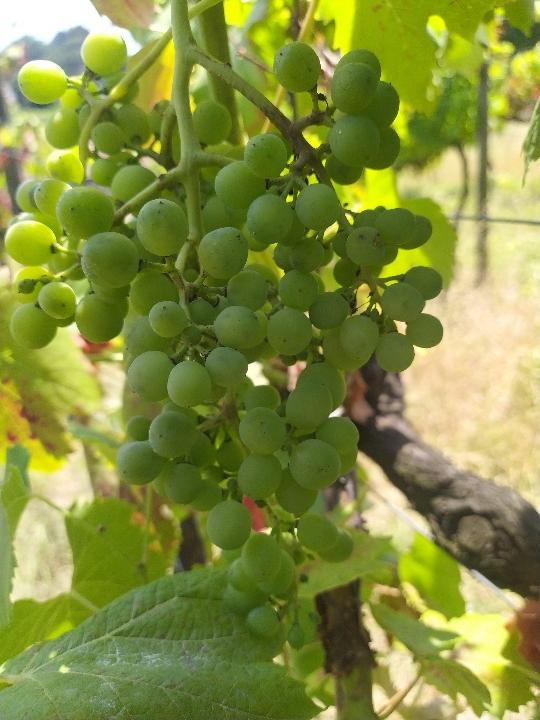grape: (6, 27, 443, 658)
